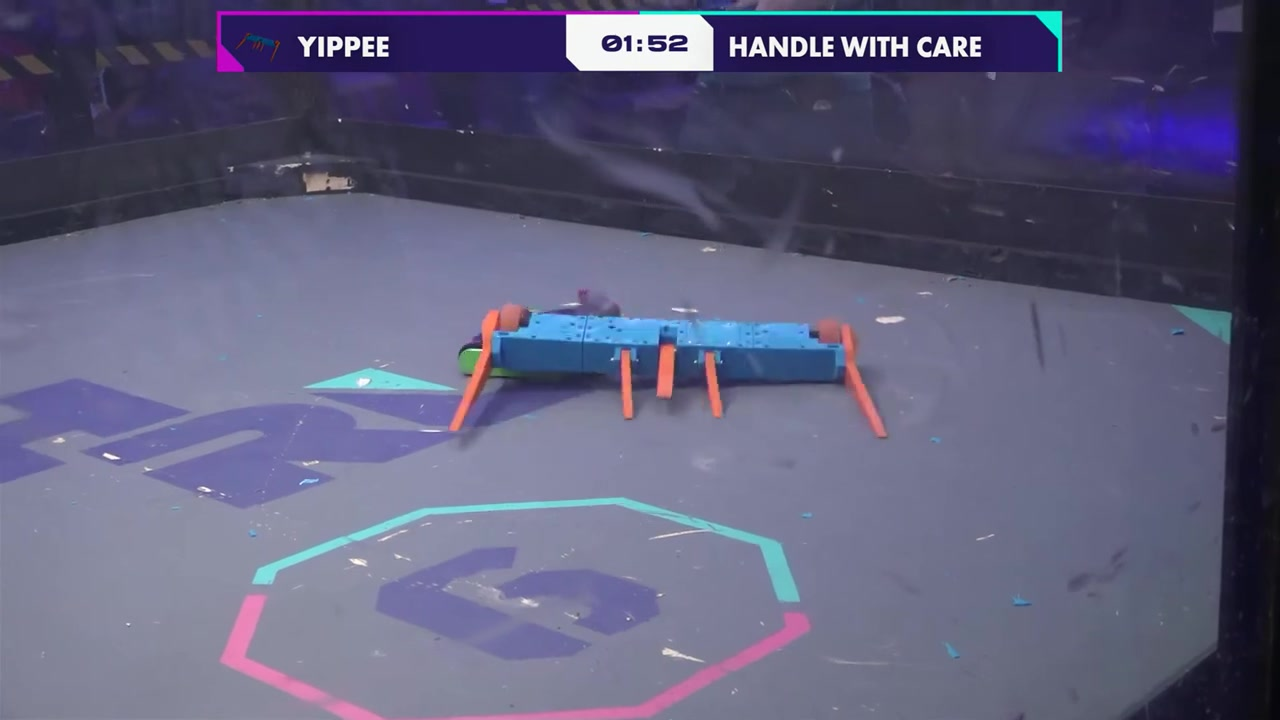combatbot: (446, 302, 886, 440), (458, 290, 620, 380)
